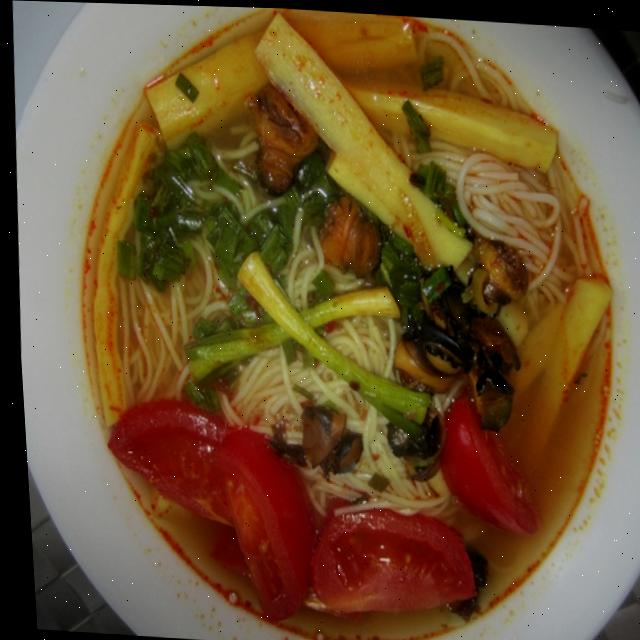面条主食: (14, 0, 640, 640)
